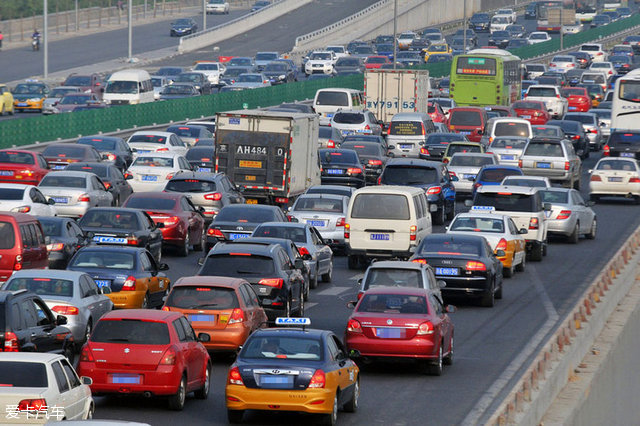bus: (448, 49, 524, 110), (610, 68, 640, 135), (535, 2, 564, 32), (574, 1, 597, 22), (603, 1, 629, 13)
car: (224, 318, 362, 423), (81, 304, 212, 408), (339, 287, 456, 376), (190, 240, 304, 329), (157, 274, 266, 360), (1, 265, 116, 343), (64, 242, 173, 314), (405, 233, 504, 307), (1, 350, 95, 426), (356, 257, 445, 323), (245, 221, 334, 287), (119, 191, 208, 256), (442, 213, 526, 280), (77, 206, 164, 269), (206, 204, 295, 257), (33, 169, 116, 225), (282, 195, 352, 252), (530, 186, 598, 243), (24, 213, 89, 271), (1, 182, 61, 239), (63, 163, 132, 211), (126, 152, 196, 197), (444, 152, 499, 198), (338, 138, 394, 183), (468, 165, 524, 209), (71, 135, 134, 174), (588, 155, 640, 202), (45, 144, 107, 181), (122, 132, 189, 166), (316, 147, 364, 189), (561, 112, 606, 153), (1, 149, 49, 185), (546, 120, 590, 159), (421, 133, 468, 164), (486, 137, 530, 169), (602, 129, 640, 164), (10, 78, 49, 112), (442, 141, 483, 172), (510, 99, 553, 126), (164, 124, 215, 146), (186, 138, 221, 169), (173, 72, 213, 97), (44, 86, 81, 113), (190, 61, 228, 87), (52, 92, 99, 113), (305, 51, 339, 77), (261, 61, 296, 86), (227, 72, 272, 91), (159, 82, 202, 101), (560, 86, 591, 112), (218, 65, 251, 88), (317, 127, 344, 153), (141, 75, 168, 101), (428, 97, 457, 121), (587, 108, 612, 135), (154, 65, 183, 86), (224, 57, 256, 76), (422, 43, 452, 63), (550, 55, 581, 74), (351, 46, 379, 67), (170, 17, 199, 36), (254, 51, 281, 71), (334, 56, 364, 74), (606, 55, 634, 74), (582, 85, 605, 106), (589, 62, 617, 79), (610, 45, 636, 63), (533, 75, 562, 91), (452, 29, 479, 46), (567, 52, 593, 69), (467, 12, 490, 31), (394, 51, 423, 66), (397, 33, 422, 50), (490, 16, 513, 34), (489, 31, 513, 48), (361, 56, 389, 70), (524, 63, 547, 80), (322, 46, 348, 61), (524, 2, 545, 20), (1, 83, 13, 114), (494, 9, 518, 24), (505, 23, 526, 40), (564, 70, 586, 86), (374, 44, 396, 60), (526, 32, 552, 45), (205, 1, 230, 14), (561, 21, 584, 35), (347, 40, 368, 55), (424, 34, 448, 47), (372, 35, 396, 48), (591, 15, 611, 29), (621, 35, 640, 49), (615, 7, 634, 20), (601, 12, 622, 23), (250, 1, 272, 11)
microbus: (347, 186, 433, 265), (1, 209, 47, 283), (478, 116, 533, 155), (313, 88, 364, 129), (388, 114, 435, 157), (105, 69, 155, 103), (447, 106, 489, 142)
suv: (1, 288, 74, 376), (471, 183, 549, 260), (377, 155, 458, 227), (162, 169, 247, 233), (520, 135, 582, 189), (330, 108, 385, 143), (525, 85, 568, 119), (61, 71, 105, 104), (577, 44, 608, 63)
truck: (215, 109, 321, 206), (362, 69, 429, 135)
